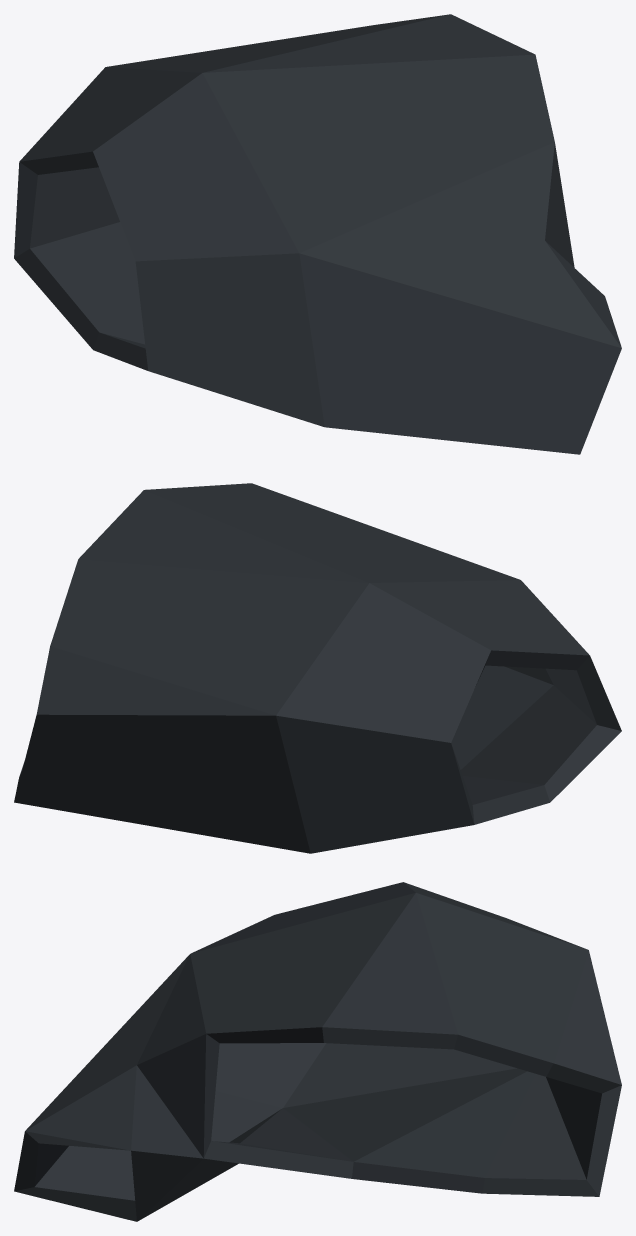
File: Chr_HandLeft_Female_07_Drop.fbx
3 renders of one model, top to bottom at view 1: azimuth 30°, elevation 25°; view 2: azimuth 150°, elevation 25°; view 3: azimuth 270°, elevation 25°, orthographic. The views are drawn at different scales.
Parts seen in each view (by area): view 1: Chr_HandLeft_Female_07_Static; view 2: Chr_HandLeft_Female_07_Static; view 3: Chr_HandLeft_Female_07_Static.
Part boxes in pixels (bbox=[...]): Chr_HandLeft_Female_07_Static: bbox=[14, 14, 621, 454]; Chr_HandLeft_Female_07_Static: bbox=[14, 483, 621, 853]; Chr_HandLeft_Female_07_Static: bbox=[14, 882, 621, 1221].
Bounding box in the file's own units: 11.79 × 7.05 × 15.24.
